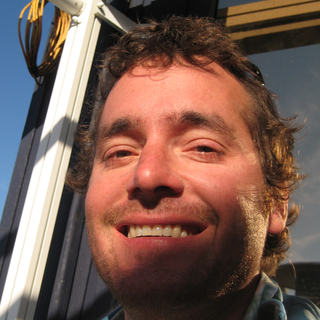eye: (179, 135, 228, 159), (100, 143, 138, 166)
